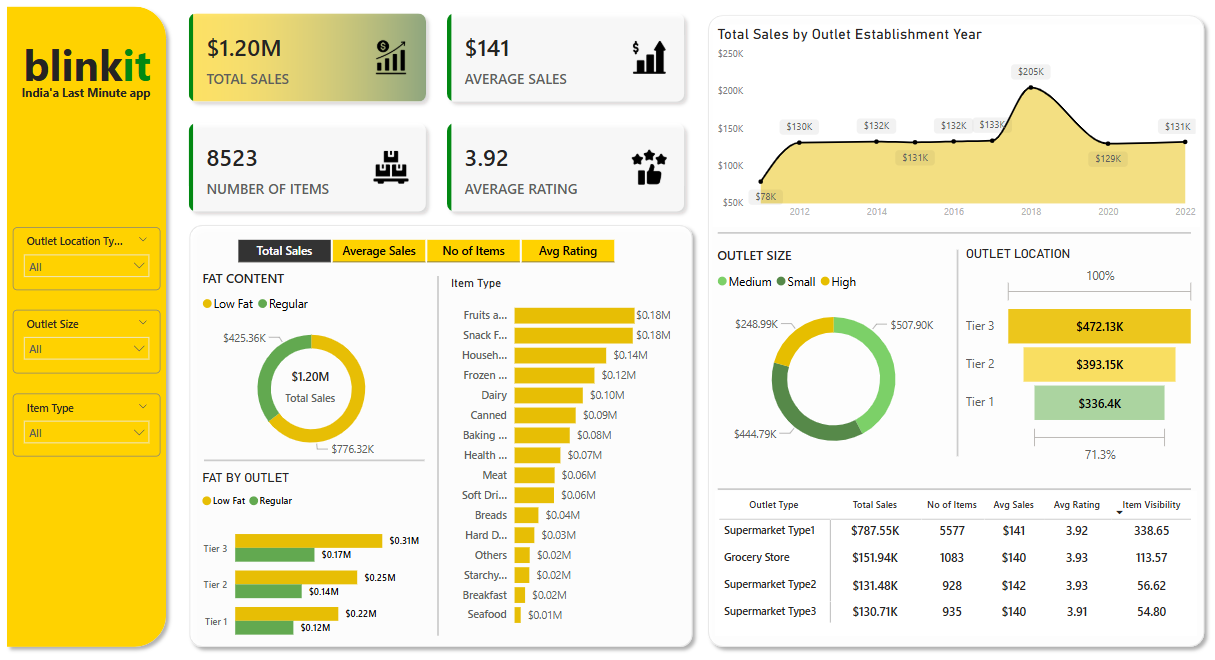

The page's visual inventory and layout, read from the dashboard file:
{"tool":"powerbi","page":{"name":"Page 1","canvas":[1400,800],"ordinal":0},"visuals":[{"type":"shape","box":[0,25.7,200,750],"z":0},{"type":"textbox","box":[16,62.7,170,79.3],"z":1000},{"type":"textbox","box":[14.7,118.7,170,31.3],"z":2000},{"type":"cardVisual","fields":{"Data":["BlinkIT Grocery Data.Total Sales","BlinkIT Grocery Data.Average Sales","BlinkIT Grocery Data.No of Items","BlinkIT Grocery Data.Avg Rating"]},"box":[200,26,601,261],"z":3000},{"type":"shape","box":[208.6,275.7,592.9,500],"z":4000},{"type":"donutChart","title":"FAT CONTENT","fields":{"Y":["BlinkIT Grocery Data.Total Sales"],"Category":["BlinkIT Grocery Data.Item Fat Content"]},"box":[226.9,333.8,260,225.4],"z":5000},{"type":"slicer","fields":{"Values":["Metrics.Metrics"]},"box":[247.1,294.3,480,40],"z":6000},{"type":"clusteredBarChart","title":"FAT BY OUTLET","fields":{"Y":["BlinkIT Grocery Data.Total Sales"],"Category":["BlinkIT Grocery Data.Outlet Location Type"],"Series":["BlinkIT Grocery Data.Item Fat Content"]},"box":[226.9,563.8,260,211.5],"z":6001},{"type":"cardVisual","fields":{"Data":["BlinkIT Grocery Data.Total Sales"]},"box":[298.9,431.1,114.4,75.6],"z":6002},{"type":"shape","box":[234.4,538.9,252.2,30],"z":6003},{"type":"shape","box":[495,343,12,411],"z":6004},{"type":"clusteredBarChart","title":"Item Type","fields":{"Category":["BlinkIT Grocery Data.Item Type"],"Y":["BlinkIT Grocery Data.Total Sales"]},"box":[512,343,261,411],"z":6005},{"type":"shape","box":[801.7,35,585,740],"z":6006},{"type":"lineChart","fields":{"Y":["BlinkIT Grocery Data.Total Sales"],"Category":["BlinkIT Grocery Data.Outlet Establishment Year"]},"box":[815.7,55.7,557.1,231.4],"z":6007},{"type":"shape","box":[821.8,279.1,540.9,30],"z":6008},{"type":"donutChart","title":"OUTLET SIZE","fields":{"Y":["BlinkIT Grocery Data.Total Sales"],"Category":["BlinkIT Grocery Data.Outlet Size"]},"box":[815.6,308.9,276.7,254.4],"z":6009},{"type":"shape","box":[1087.3,312.7,16.7,236],"z":6010},{"type":"funnel","title":"OUTLET LOCATION","fields":{"Y":["Sum(BlinkIT Grocery Data.Sales)"],"Category":["BlinkIT Grocery Data.Outlet Location Type"]},"box":[1100,308.9,272.2,254.4],"z":6011},{"type":"shape","box":[821.1,571.1,541.1,30],"z":6012},{"type":"pivotTable","fields":{"Rows":["BlinkIT Grocery Data.Outlet Type"],"Values":["BlinkIT Grocery Data.Total Sales","BlinkIT Grocery Data.No of Items","BlinkIT Grocery Data.Average Sales","BlinkIT Grocery Data.Avg Rating","Sum(BlinkIT Grocery Data.Item Visibility)"]},"box":[818.9,588.9,550,165.6],"z":6013},{"type":"slicer","fields":{"Values":["BlinkIT Grocery Data.Outlet Location Type"]},"box":[16,286.7,168.7,72],"z":6014},{"type":"slicer","fields":{"Values":["BlinkIT Grocery Data.Outlet Size"]},"box":[16,382,168.7,72.7],"z":6015},{"type":"slicer","fields":{"Values":["BlinkIT Grocery Data.Item Type"]},"box":[16,476.7,168.7,72],"z":6016}]}

Visuals, with their boxes on the page's 1400x800 design canvas (x1, y1, x2, y2). These are canvas units, not pixel positions in the 1215x660 screenshot, which may show the page scaled, cropped or inside an application window:
shape: (left=0, top=26, right=200, bottom=776)
textbox: (left=16, top=63, right=186, bottom=142)
textbox: (left=15, top=119, right=185, bottom=150)
cardVisual - BlinkIT Grocery Data.Total Sales x BlinkIT Grocery Data.Average Sales: (left=200, top=26, right=801, bottom=287)
shape: (left=209, top=276, right=802, bottom=776)
"FAT CONTENT" donutChart: (left=227, top=334, right=487, bottom=559)
slicer - Metrics.Metrics: (left=247, top=294, right=727, bottom=334)
"FAT BY OUTLET" clusteredBarChart: (left=227, top=564, right=487, bottom=775)
cardVisual - BlinkIT Grocery Data.Total Sales: (left=299, top=431, right=413, bottom=507)
shape: (left=234, top=539, right=487, bottom=569)
shape: (left=495, top=343, right=507, bottom=754)
"Item Type" clusteredBarChart: (left=512, top=343, right=773, bottom=754)
shape: (left=802, top=35, right=1387, bottom=775)
lineChart - BlinkIT Grocery Data.Total Sales x BlinkIT Grocery Data.Outlet Establishment Year: (left=816, top=56, right=1373, bottom=287)
shape: (left=822, top=279, right=1363, bottom=309)
"OUTLET SIZE" donutChart: (left=816, top=309, right=1092, bottom=563)
shape: (left=1087, top=313, right=1104, bottom=549)
"OUTLET LOCATION" funnel: (left=1100, top=309, right=1372, bottom=563)
shape: (left=821, top=571, right=1362, bottom=601)
pivotTable - BlinkIT Grocery Data.Outlet Type x BlinkIT Grocery Data.Total Sales: (left=819, top=589, right=1369, bottom=754)
slicer - BlinkIT Grocery Data.Outlet Location Type: (left=16, top=287, right=185, bottom=359)
slicer - BlinkIT Grocery Data.Outlet Size: (left=16, top=382, right=185, bottom=455)
slicer - BlinkIT Grocery Data.Item Type: (left=16, top=477, right=185, bottom=549)
